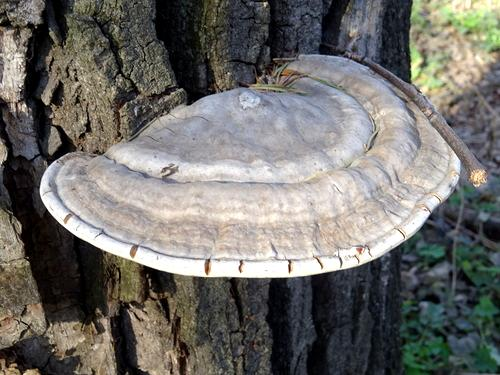Ganoderma - Fruit Body: (32, 47, 474, 285)
